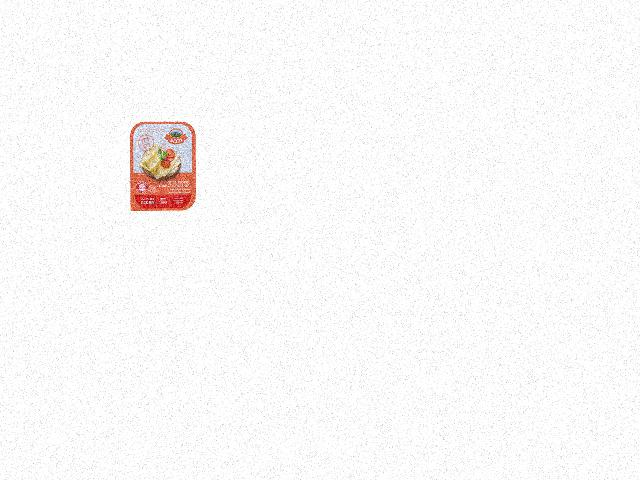cheese: (128, 119, 200, 216)
